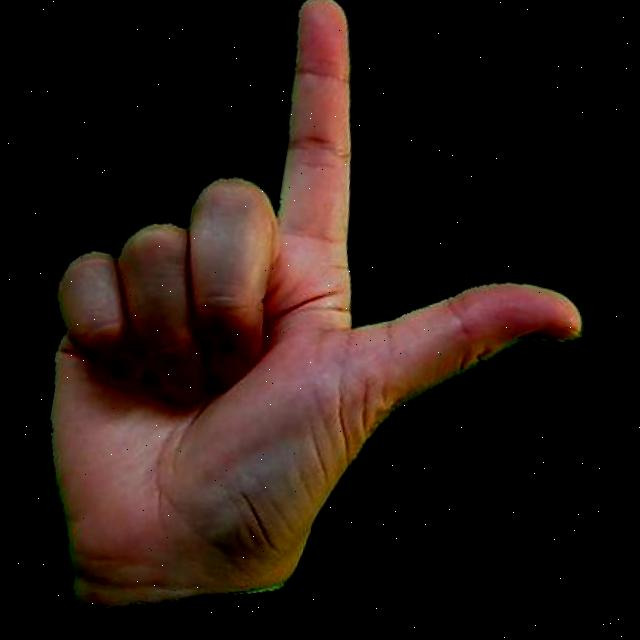l: (2, 0, 634, 640)
